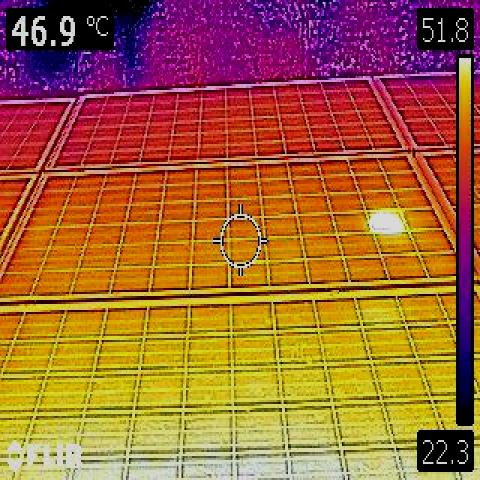fault: (370, 210, 405, 232)
